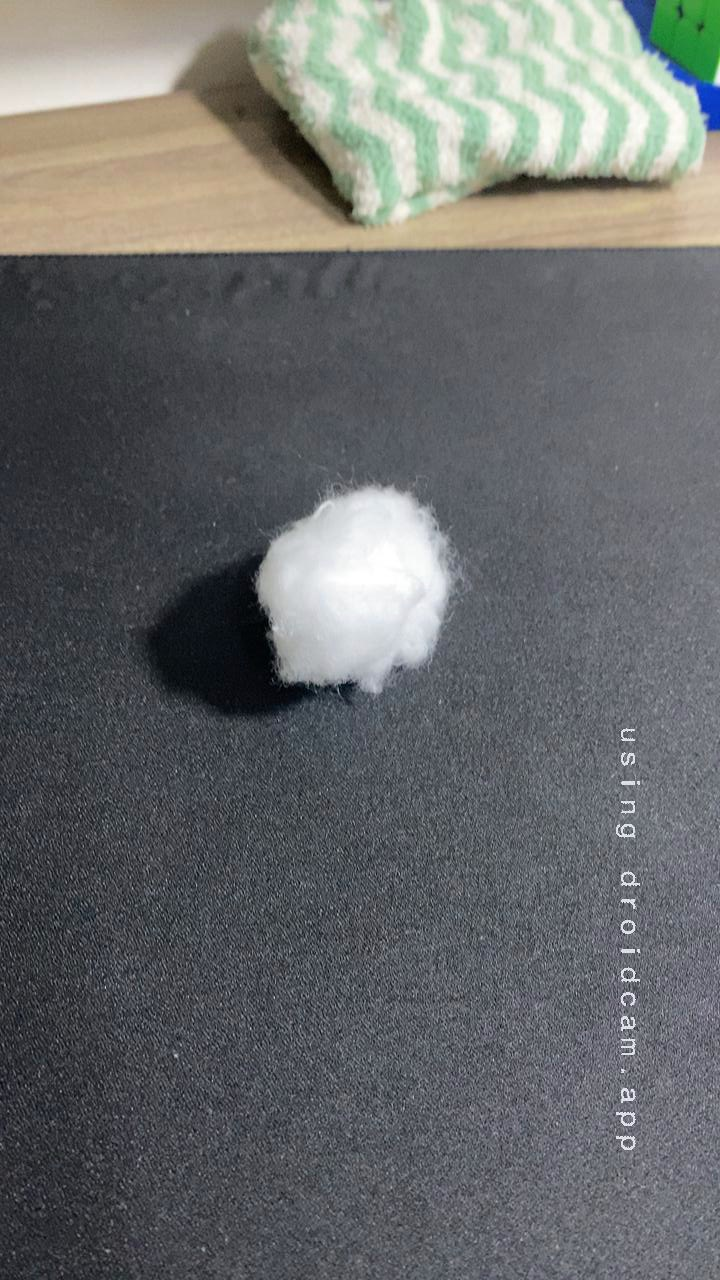cotton: (226, 464, 482, 711)
